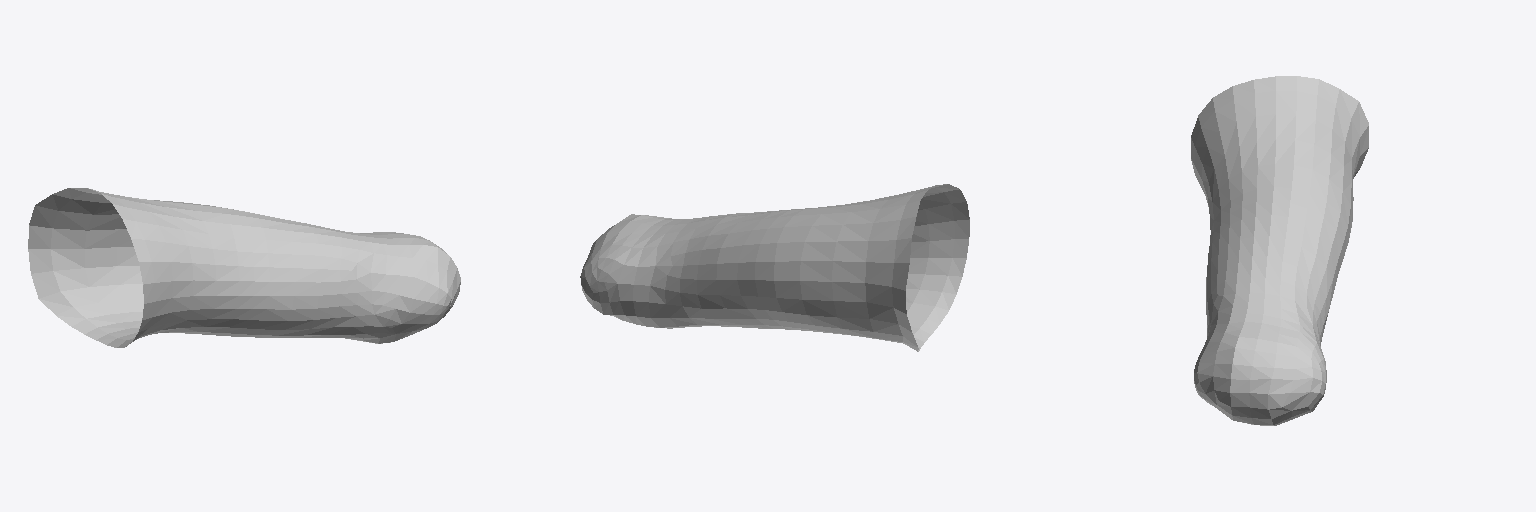
Rendered from arm.obj.
The picture shows the model from 3 angles: view 1: azimuth 30°, elevation 25°; view 2: azimuth 150°, elevation 25°; view 3: azimuth 270°, elevation 25°; orthographic projection.
Parts seen in each view (by area): view 1: cat_in_bed-RETOP4.002; view 2: cat_in_bed-RETOP4.002; view 3: cat_in_bed-RETOP4.002.
Boxes of the visible parts, <box> form: cat_in_bed-RETOP4.002: <box>28,188,460,347</box>; cat_in_bed-RETOP4.002: <box>580,184,969,351</box>; cat_in_bed-RETOP4.002: <box>1191,76,1368,425</box>.
Bounding box in the file's own units: 1.23 × 0.6518 × 0.5149.